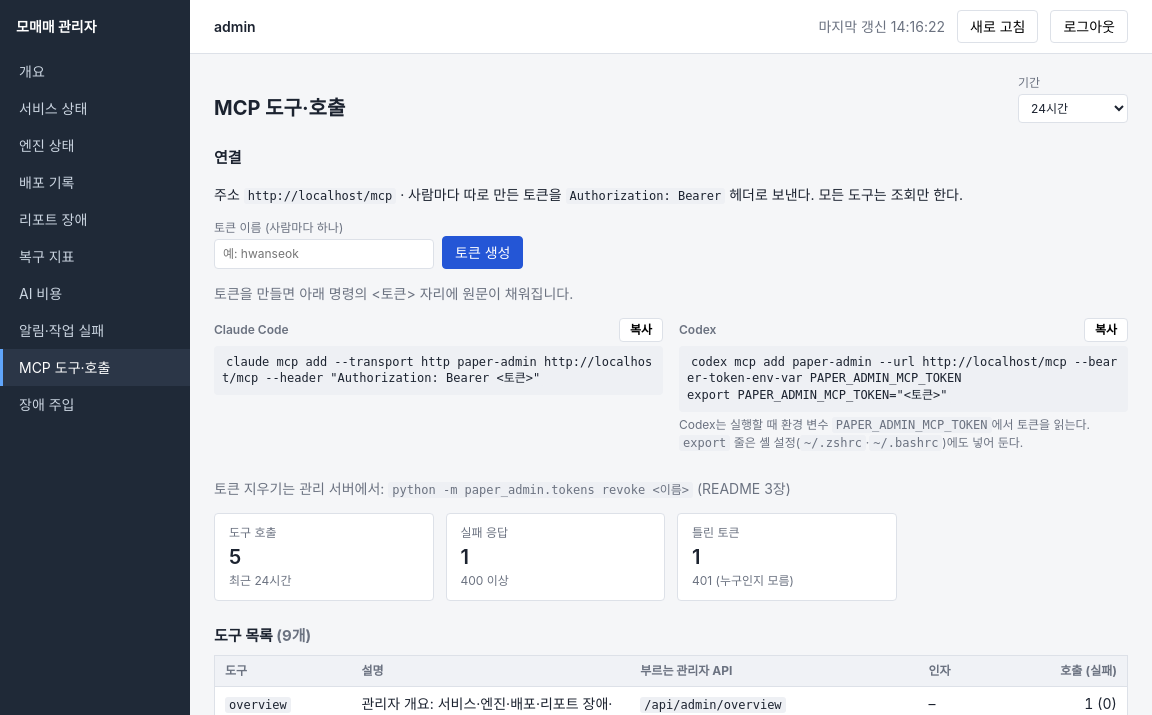
Test: MCP 도구·호출 (F10) › 토큰 이름이 틀리거나 이미 있으면 알리고 만들지 않는다
Type "bad name!" into the field labelled "토큰 이름 (사람마다 하나)" at (324,254), box [214,238,434,268]
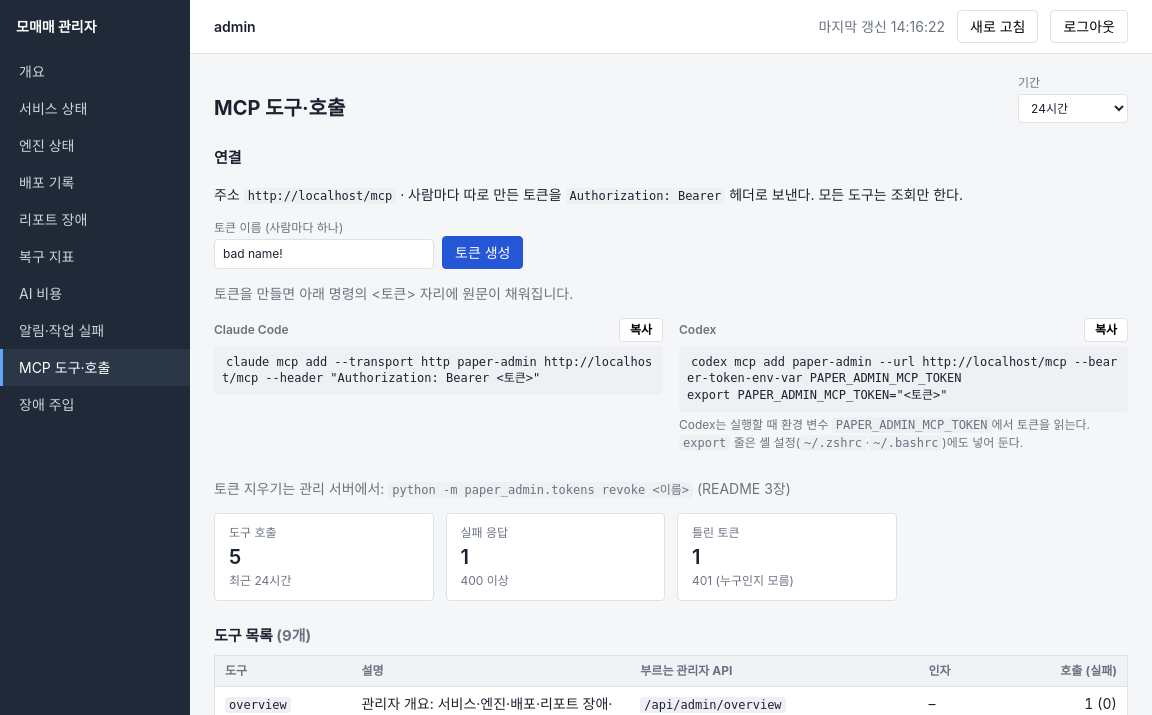
Click the button "토큰 생성" at (483,252), box [442,236,524,268]
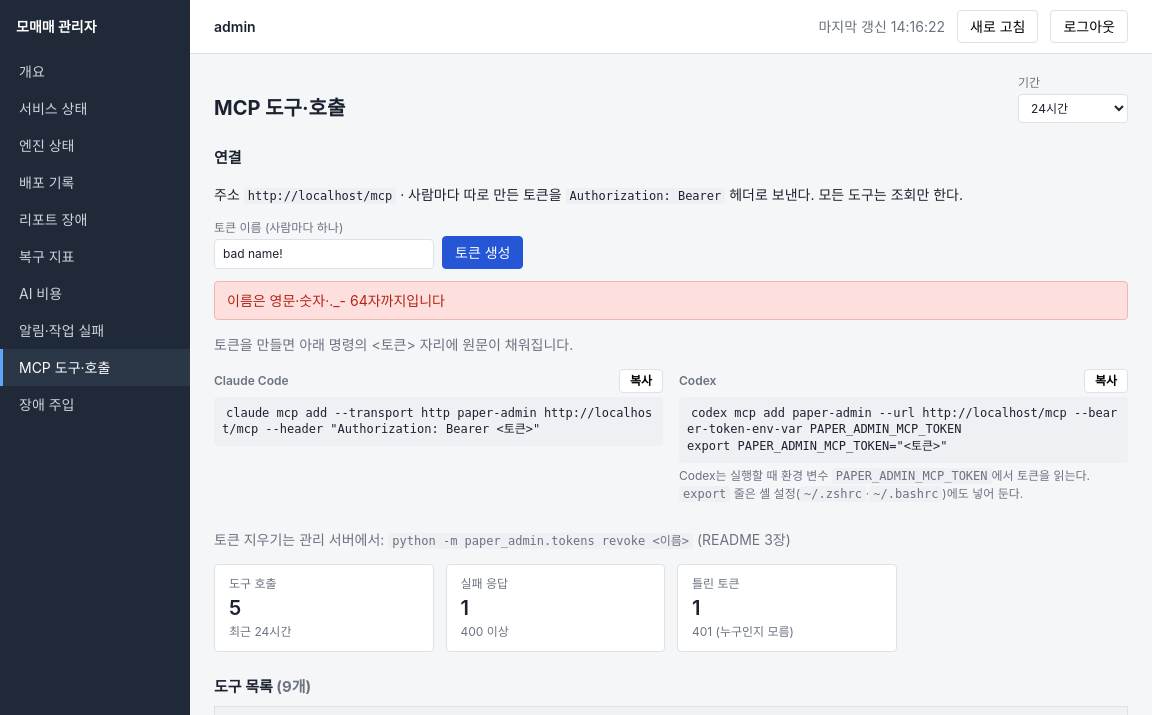
Now the message reads "이름은 영문·숫자·._- 64자까지입니다", box [227,292,445,308]
Replace the text in the field labelled "토큰 이름 (사람마다 하나)" with "dy" at (324,254), box [214,238,434,268]
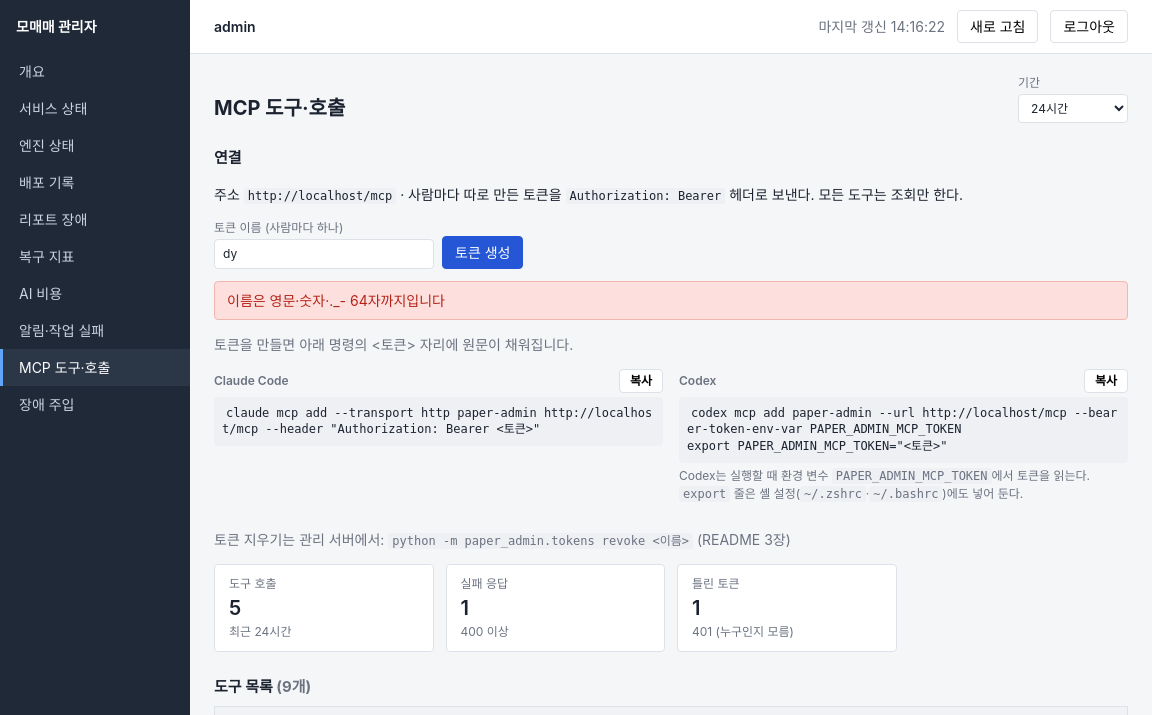
Click the button "토큰 생성" at (483,252), box [442,236,524,268]
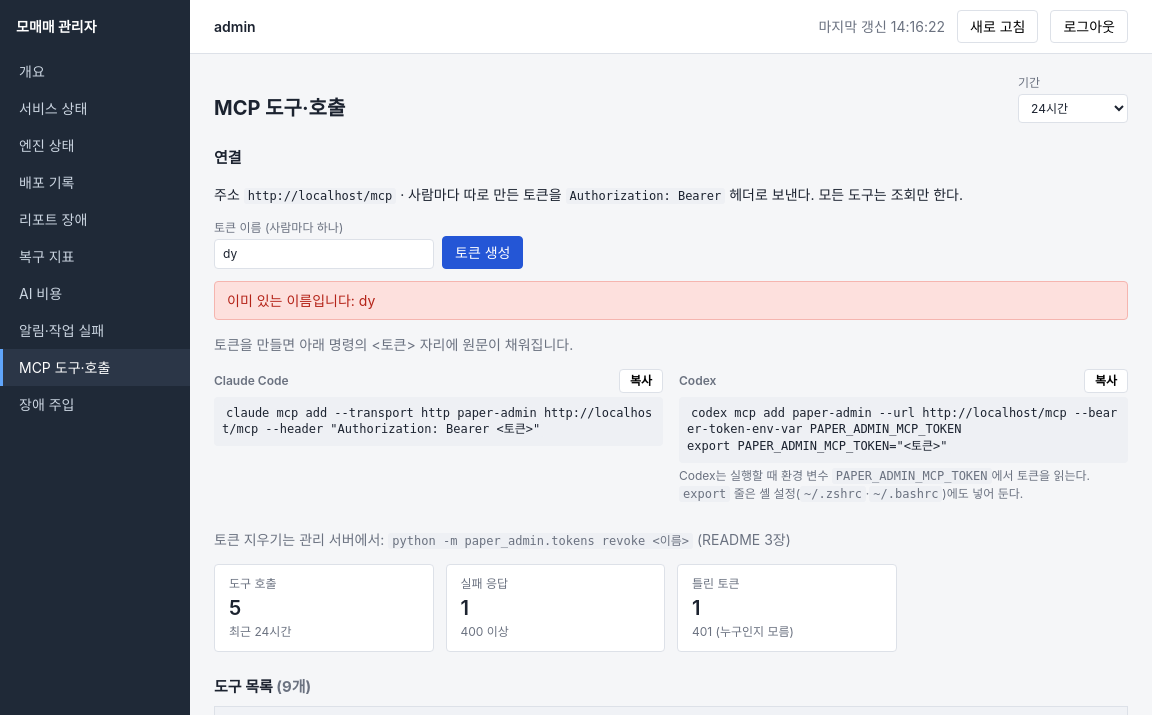
Now the message reads "이미 있는 이름입니다: dy", box [227,292,375,308]
